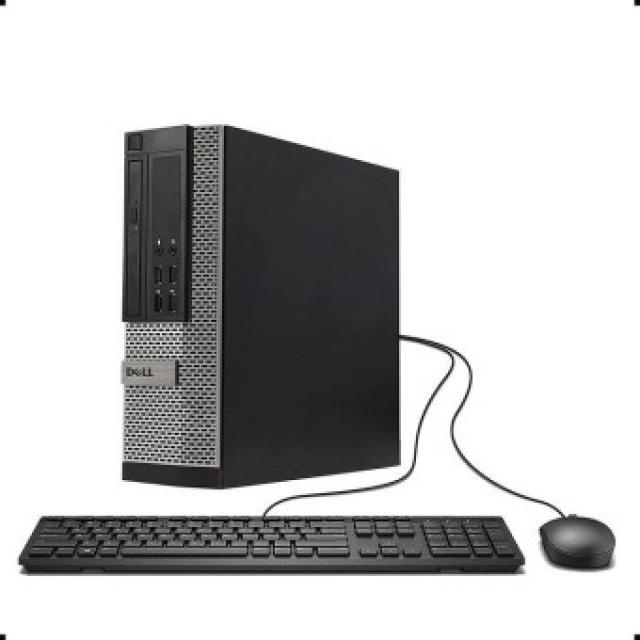Computer: (106, 111, 418, 498)
